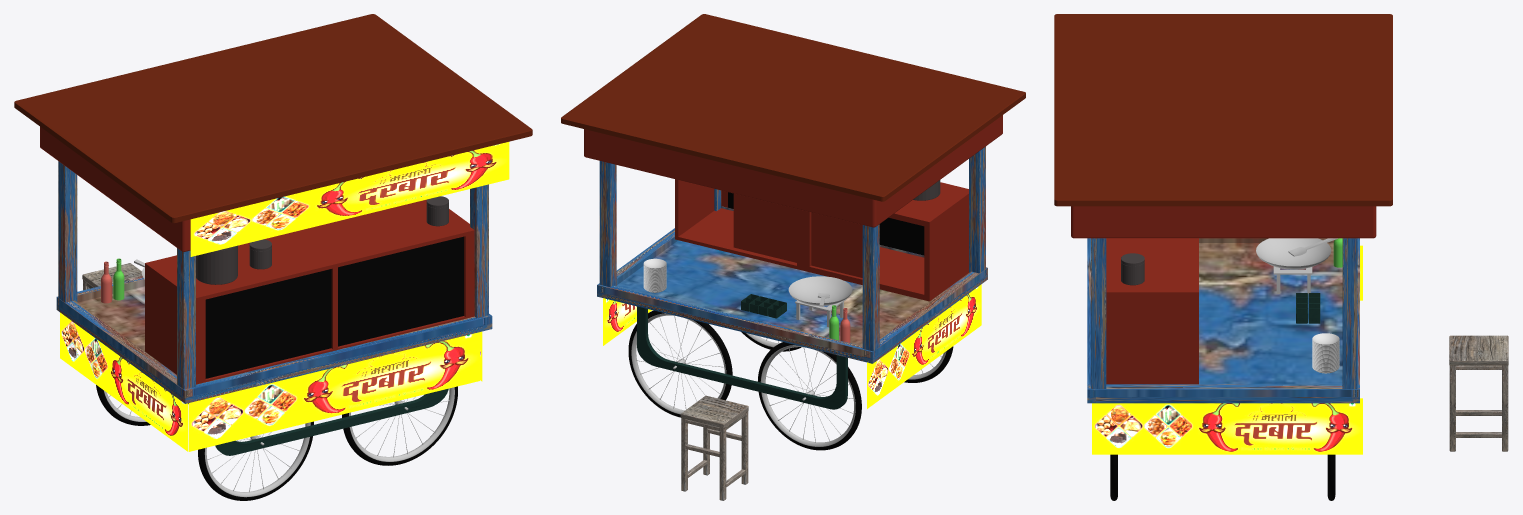
The model's file is Thela Street Food Stall.glb.
The picture shows the model from 3 angles, left to right: view 1: azimuth 30°, elevation 25°; view 2: azimuth 150°, elevation 25°; view 3: azimuth 270°, elevation 25°; orthographic projection. The views are drawn at different scales.
Parts seen in each view (by area): view 1: Cube.009_16, Cube.007_14, masala-darbar-1024x273_20, masala-darbar-1024x273.001_21, Cube.002_9, masala-darbar-1024x273.002_22, Cube.008_15, Cube_7, Cube.006_13, Cube.005_12, Cube.003_10, 10489_bicycle_L2.001_2 (+6 smaller); view 2: Cube.009_16, Cube.007_14, Cube.002_9, Cube.008_15, masala-darbar-1024x273.002_22, Aluminum teapot_38, Cube.001_8, 10489_bicycle_L2.004_6, 10489_bicycle_L2.003_5, Cube.006_13, Cube.004_11, Cube.005_12 (+3 smaller); view 3: Cube.009_16, Cube.002_9, masala-darbar-1024x273.003_23, Cube.007_14, Cube.008_15, Aluminum teapot_38, Cube.003_10, Cube.004_11, Sphere_25, Sphere.001_26, Cylinder.002_19.
Part boxes in pixels (<box>): Cube.009_16: <box>14,14,532,223</box>; Cube.007_14: <box>145,199,474,384</box>; masala-darbar-1024x273_20: <box>188,332,479,451</box>; masala-darbar-1024x273.001_21: <box>190,142,509,256</box>; Cube.002_9: <box>56,276,492,403</box>; masala-darbar-1024x273.002_22: <box>60,312,187,451</box>; Cube.008_15: <box>40,127,190,251</box>; Cube_7: <box>215,388,448,455</box>; Cube.006_13: <box>58,161,77,302</box>; Cube.005_12: <box>177,248,195,389</box>; Cube.003_10: <box>470,184,488,317</box>; 10489_bicycle_L2.001_2: <box>342,386,457,465</box>; Cube.009_16: <box>561,14,1025,201</box>; Cube.007_14: <box>675,179,968,301</box>; Cube.002_9: <box>597,206,987,363</box>; Cube.008_15: <box>584,115,1002,227</box>; masala-darbar-1024x273.002_22: <box>867,284,981,408</box>; Aluminum teapot_38: <box>680,395,748,500</box>; Cube.001_8: <box>637,306,847,409</box>; 10489_bicycle_L2.004_6: <box>757,342,861,450</box>; 10489_bicycle_L2.003_5: <box>628,310,732,417</box>; Cube.006_13: <box>862,224,879,351</box>; Cube.004_11: <box>599,161,616,287</box>; Cube.005_12: <box>969,146,985,273</box>; Cube.009_16: <box>1054,14,1392,206</box>; Cube.002_9: <box>1087,238,1359,403</box>; masala-darbar-1024x273.003_23: <box>1092,398,1362,454</box>; Cube.007_14: <box>1106,238,1198,384</box>; Cube.008_15: <box>1071,206,1376,238</box>; Aluminum teapot_38: <box>1449,335,1508,451</box>; Cube.003_10: <box>1091,238,1106,388</box>; Cube.004_11: <box>1342,238,1357,388</box>; Sphere_25: <box>1256,238,1331,269</box>; Sphere.001_26: <box>1312,333,1339,373</box>; Cylinder.002_19: <box>1121,253,1144,285</box>.
Bounding box in the file's own units: 2.33 × 2.04 × 2.4.
13 materials, 5 textured.
